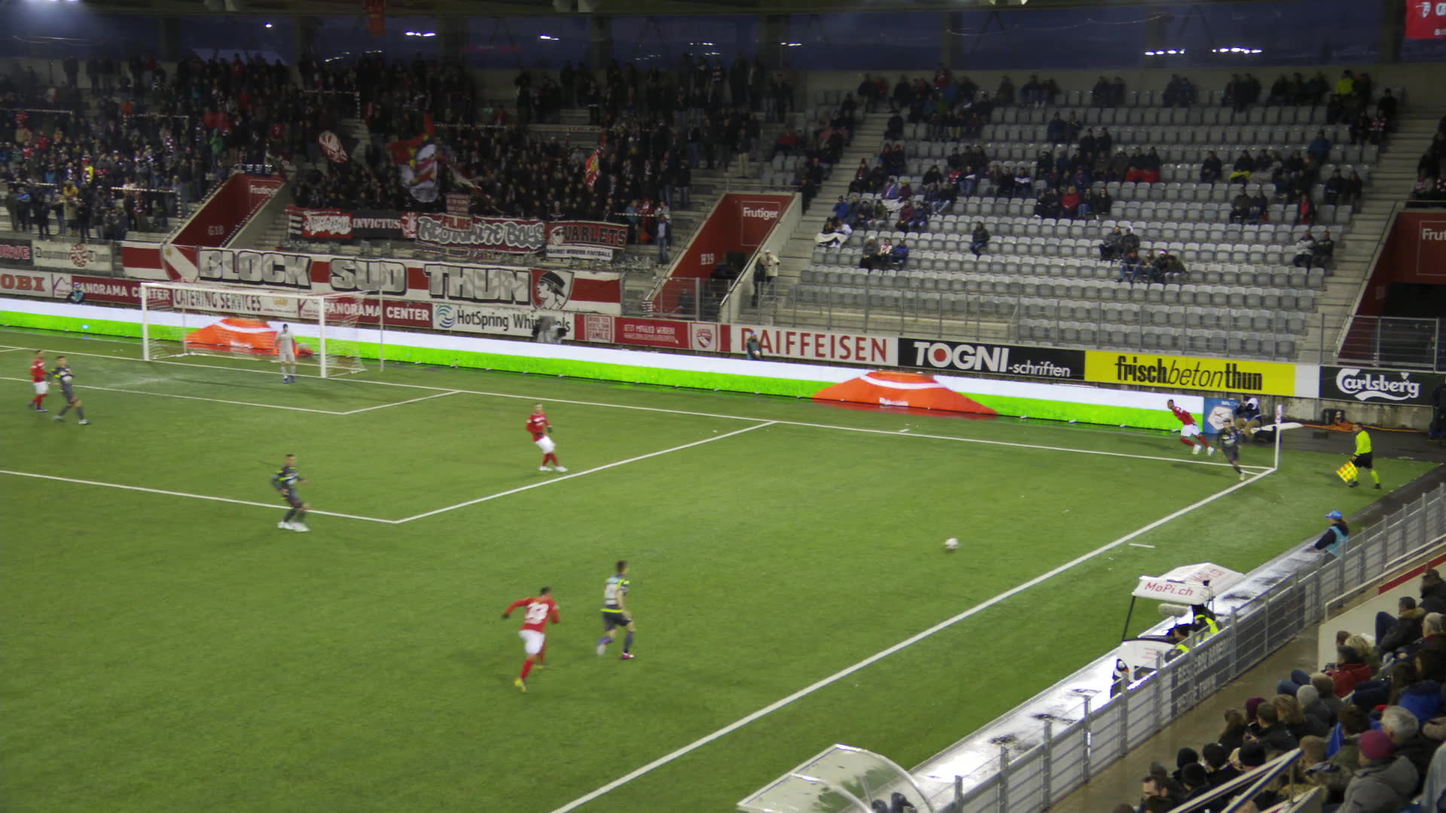ball: (949, 535, 964, 548)
player: (482, 586, 563, 702), (591, 559, 637, 662), (41, 353, 90, 427), (261, 450, 304, 534), (523, 401, 569, 473), (1166, 399, 1214, 456), (1210, 414, 1245, 481), (17, 350, 44, 414), (274, 322, 298, 383)
referee: (1334, 421, 1379, 492)
